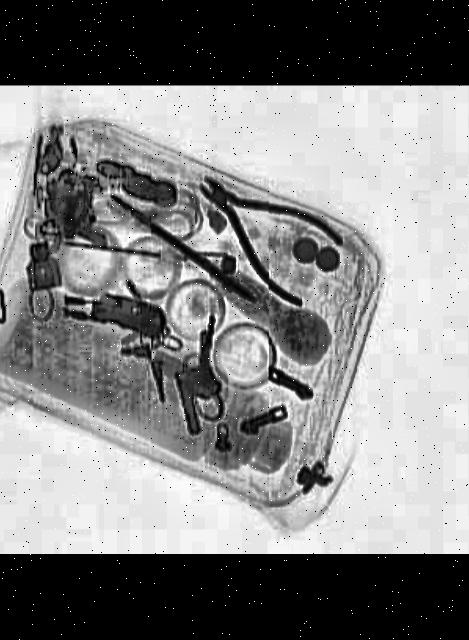Pliers: (165, 156, 360, 312)
